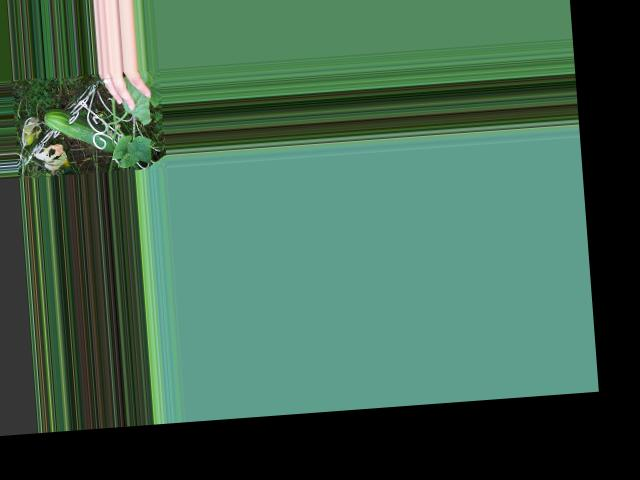cucumber: (43, 104, 116, 156)
